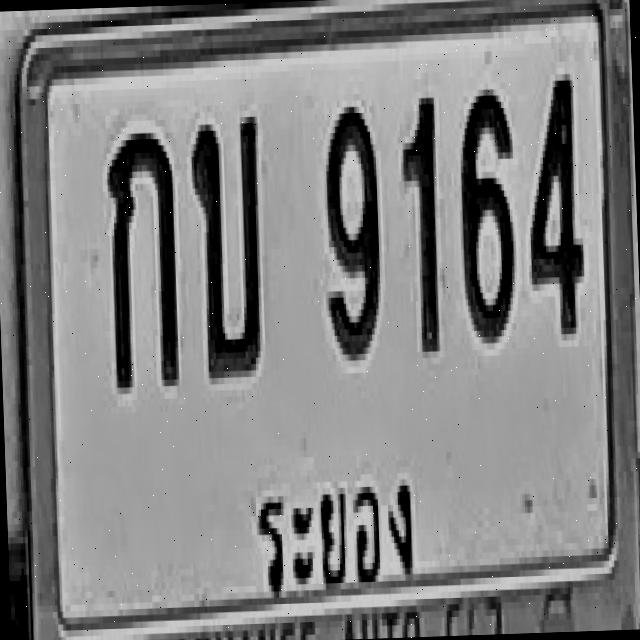1: (398, 94, 442, 355)
10GorGai: (104, 125, 180, 394)
35BorBaiMai: (188, 110, 264, 378)
4: (523, 74, 585, 336)
6: (457, 85, 518, 340)
9: (321, 100, 383, 362)
Rayong: (236, 440, 429, 610)
